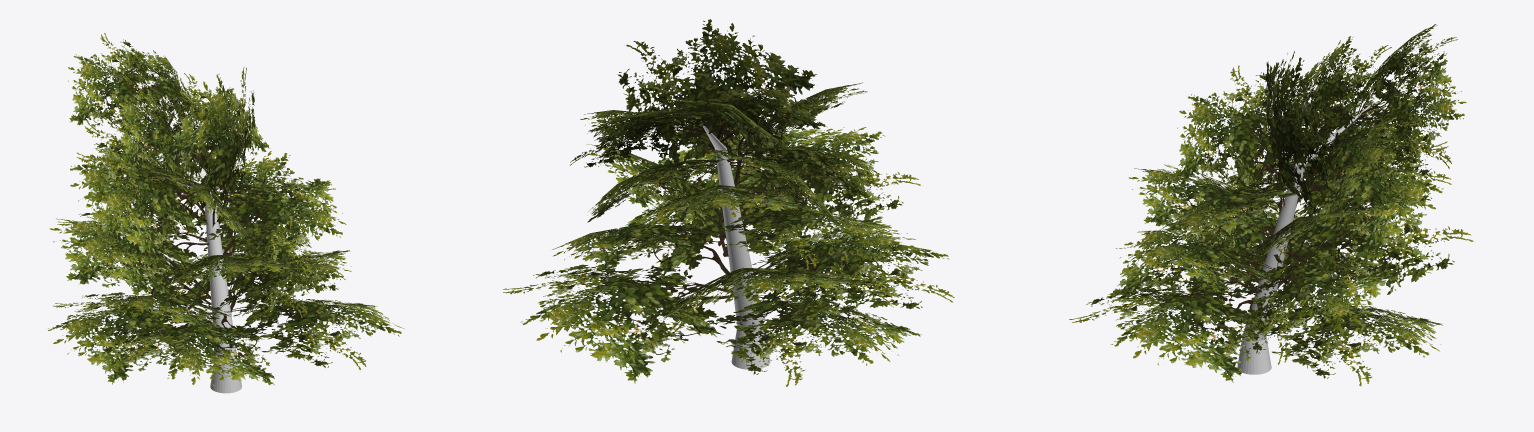
The model's file is puska1.fbx.
The picture shows the model from 3 angles, left to right: view 1: azimuth 30°, elevation 25°; view 2: azimuth 150°, elevation 25°; view 3: azimuth 270°, elevation 25°; orthographic projection. The views are drawn at different scales.
Parts seen in each view (by area): view 1: bush_leaves, bush_leaves.backfaces, bush_stem; view 2: bush_leaves, bush_leaves.backfaces, bush_stem; view 3: bush_leaves, bush_leaves.backfaces, bush_stem.
Part boxes in pixels (x1=…): bush_leaves: x1=48, y1=33, x2=401, y2=385; bush_leaves.backfaces: x1=52, y1=35, x2=403, y2=385; bush_stem: x1=173, y1=136, x2=241, y2=393; bush_leaves: x1=503, y1=19, x2=954, y2=386; bush_leaves.backfaces: x1=509, y1=20, x2=953, y2=385; bush_stem: x1=703, y1=126, x2=770, y2=369; bush_leaves: x1=1069, y1=24, x2=1473, y2=385; bush_leaves.backfaces: x1=1070, y1=24, x2=1464, y2=384; bush_stem: x1=1237, y1=102, x2=1374, y2=374.
Size of the model in its own units: 141 by 110 by 153.
